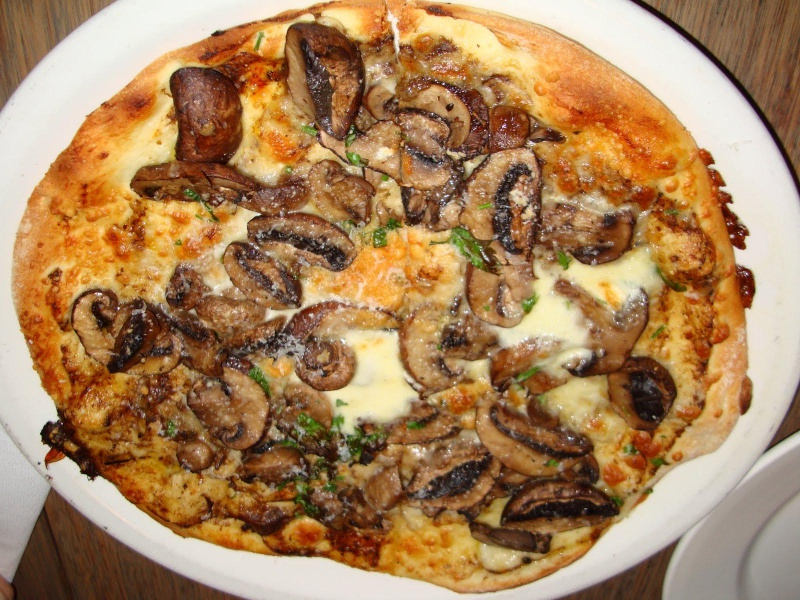champignon: (547, 263, 657, 388), (276, 13, 369, 145), (467, 397, 597, 484), (65, 287, 185, 378), (393, 298, 498, 394), (459, 142, 543, 248), (246, 213, 371, 276), (187, 373, 280, 457), (219, 241, 316, 315), (496, 479, 621, 535), (602, 356, 690, 435), (405, 446, 505, 515), (392, 70, 476, 147)
